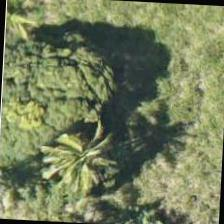Kelapa_Sawit: (38, 112, 133, 207)
